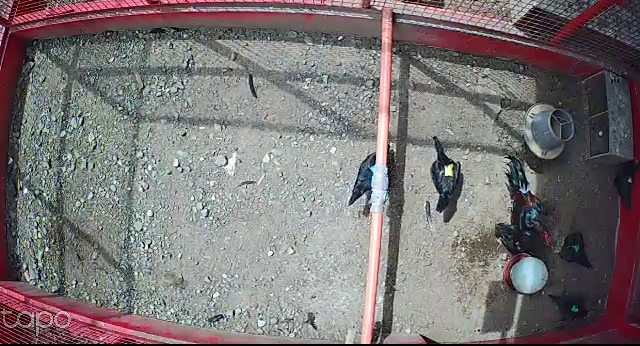Chicken: (344, 140, 394, 207), (423, 133, 462, 214), (488, 218, 545, 263), (540, 287, 598, 326), (603, 159, 640, 213), (549, 230, 596, 270)
Drinker: (501, 250, 549, 298)
Feeder: (524, 103, 577, 159)
Rooster: (500, 146, 555, 251)
Saddle_Color_Yellow: (443, 161, 455, 178)
